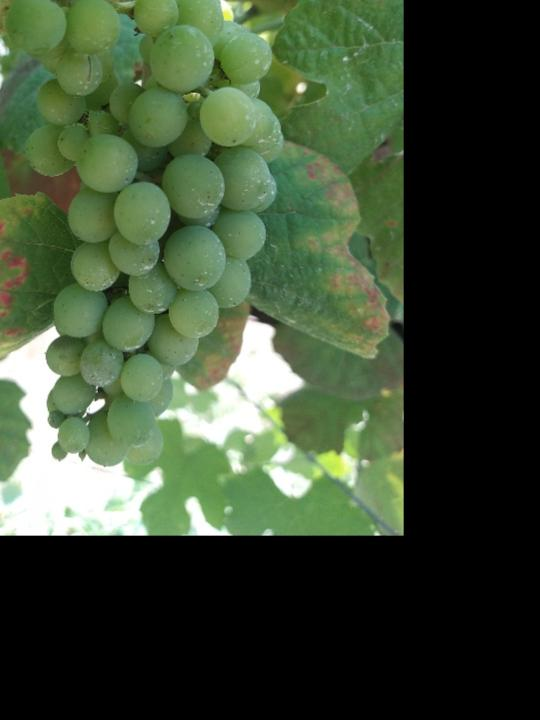grape: (1, 0, 287, 476)
